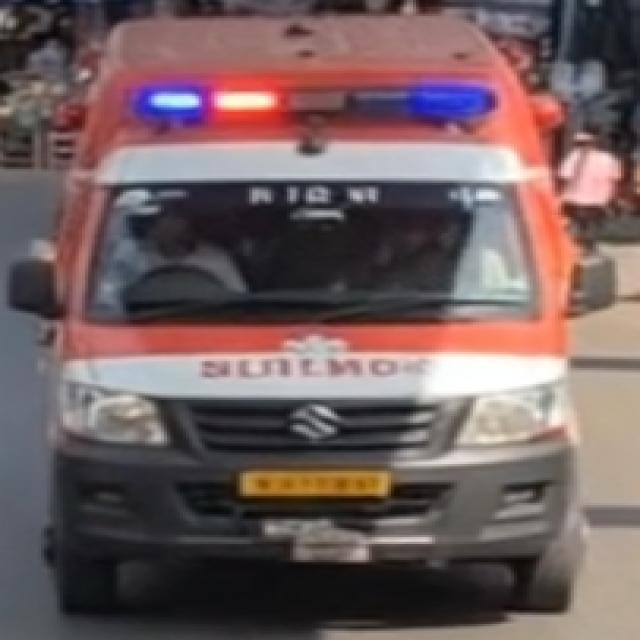ambulance: (7, 16, 614, 612)
